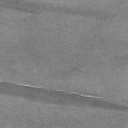finishing roll printing: (0, 82, 128, 114), (0, 2, 43, 14)
